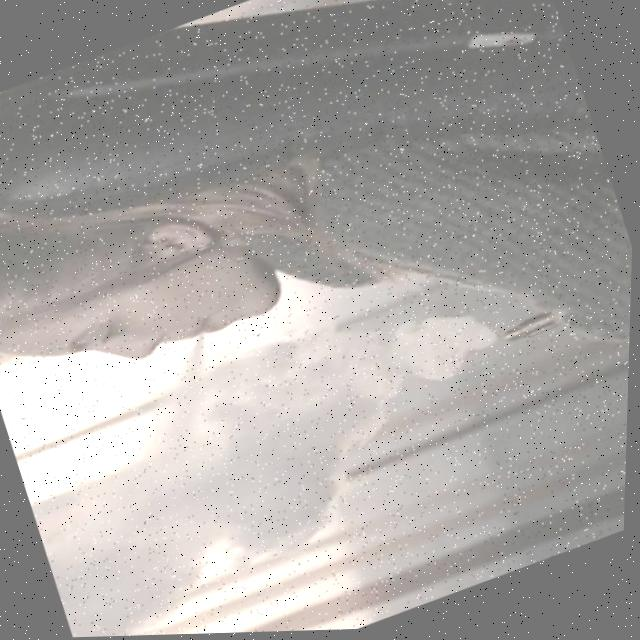Smoke: (33, 319, 501, 638)
